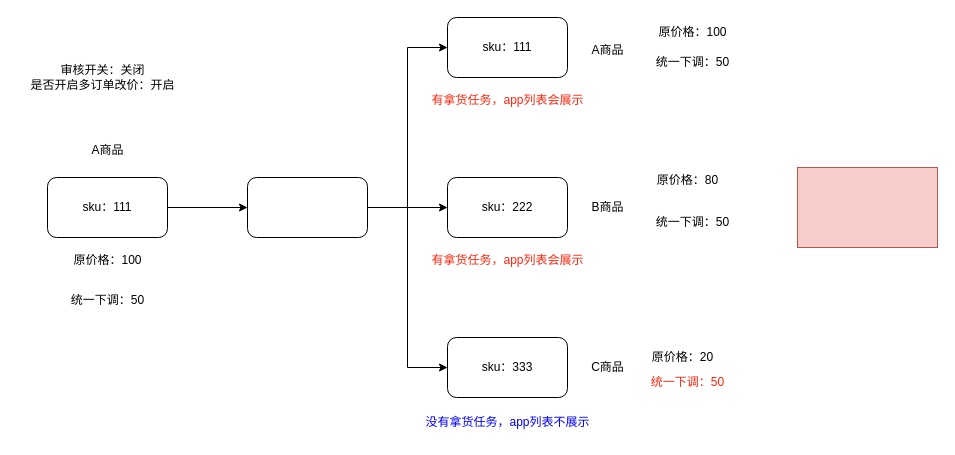
This 955x455 diagram has some shape labels left out. Each missing label, with the centre of its shape:
"spu：888" goes at point (307, 207).
"点击确定会报改价金额不能小于0，但是此时用户无法得知是那个商品出的这个问题，没法处理" goes at point (867, 207).
